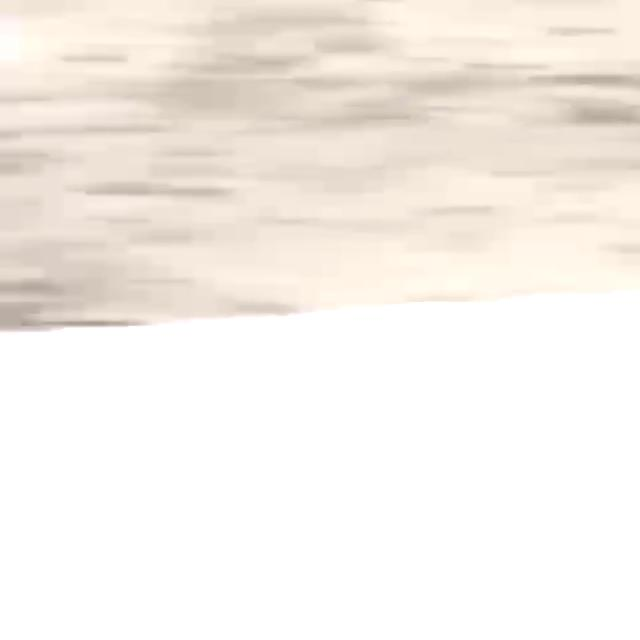road: (0, 294, 638, 640)
